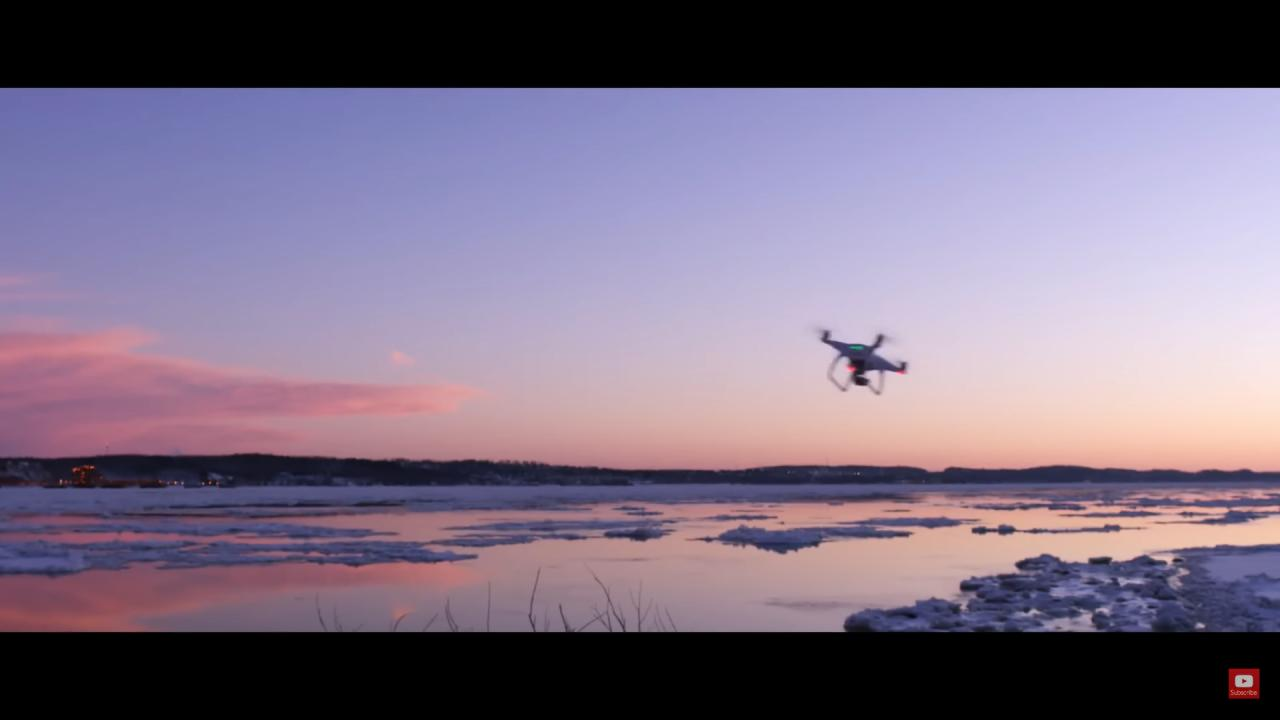Drone: (811, 318, 920, 402)
